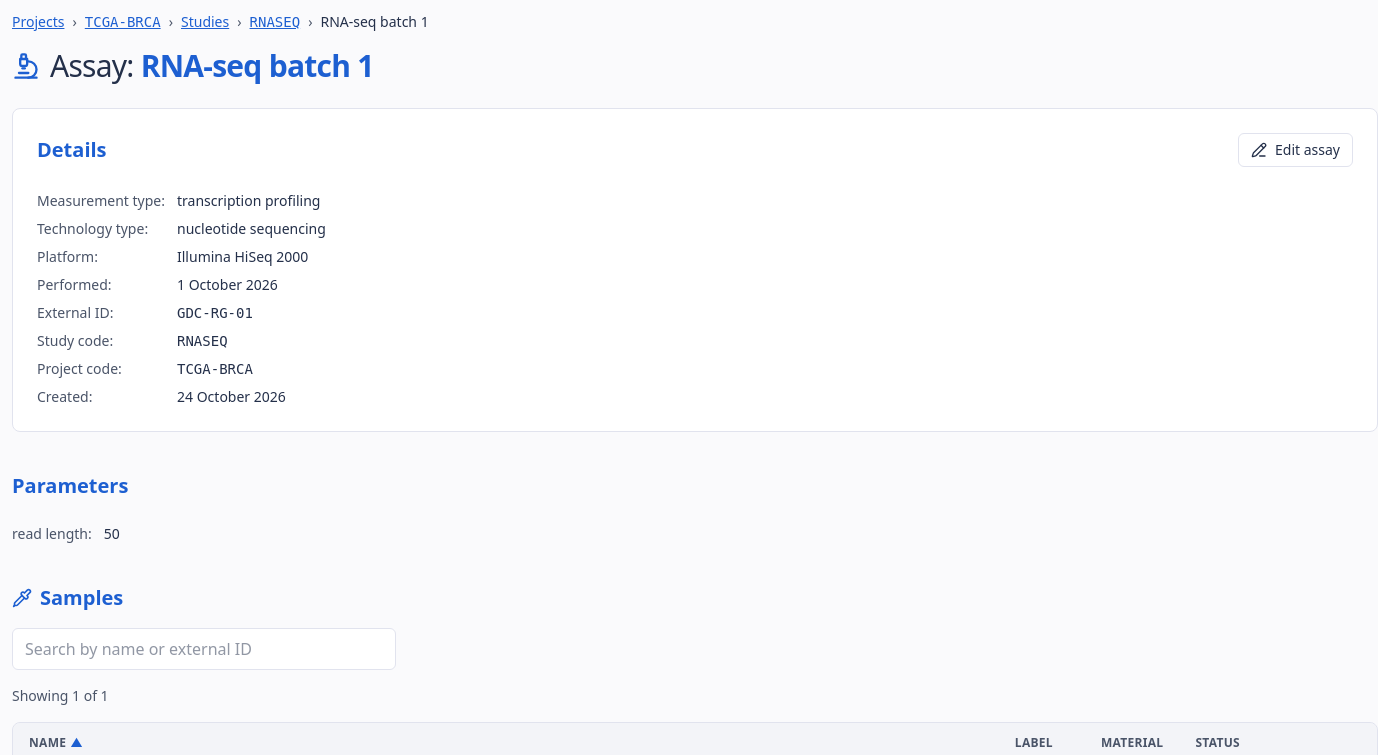
it: AssayDetailPage › sorts and searches its samples
Click the button "Label".
click(1042, 743)  # box top-left (1015, 735), bottom-right (1069, 751)
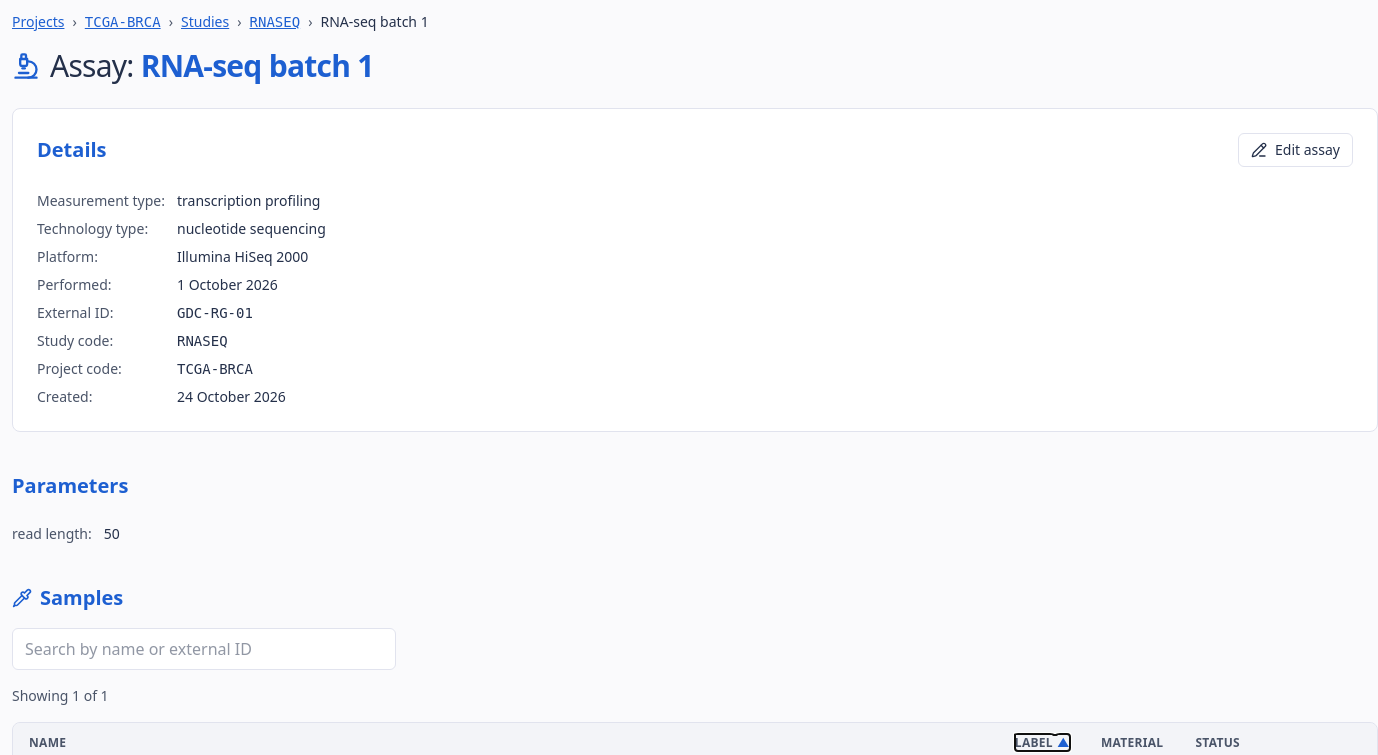
Type "zzz" into the search field named "Search samples".
click(204, 649); type("zzz")  # box top-left (12, 628), bottom-right (396, 670)
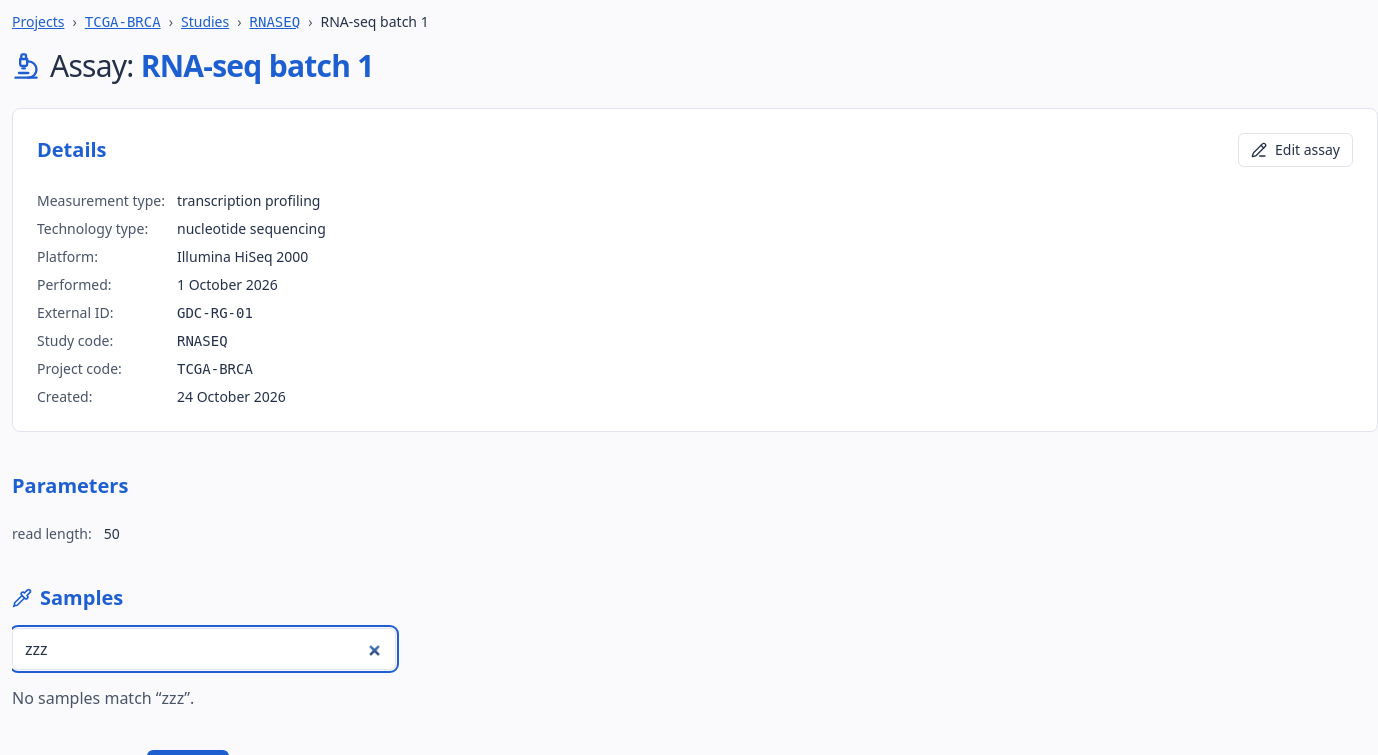
Check: the text "No samples match “zzz”." is shown, box top-left (12, 687), bottom-right (194, 709)
